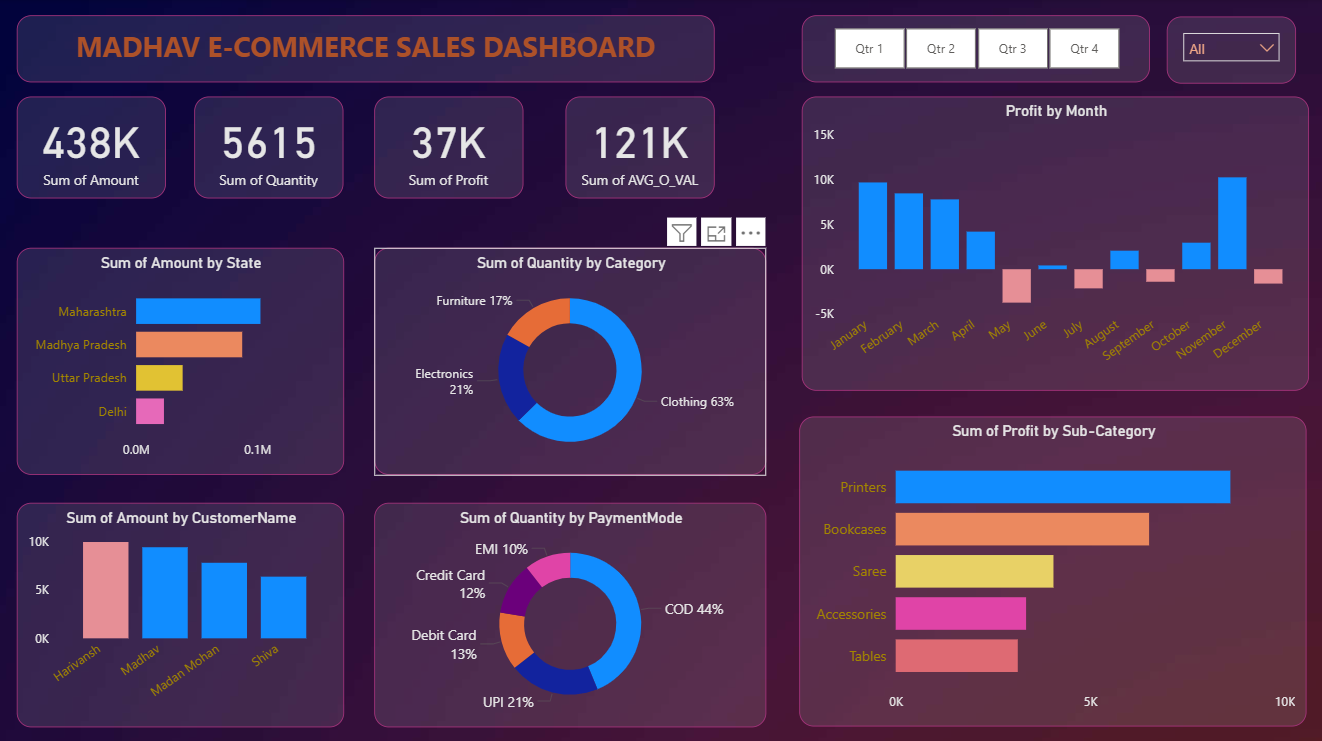

Layout of this report page (visuals, bound fields, positions):
{"tool":"powerbi","page":{"name":"Page 1","canvas":[1280,720],"ordinal":0},"visuals":[{"type":"textbox","box":[17.8,15.1,673.8,64.5],"z":0},{"type":"columnChart","title":"Profit by Month","fields":{"Category":["Orders.Order Date.Variation.Date Hierarchy.Month"],"Y":["Details.Profit"]},"box":[775.3,94.7,489.9,284],"z":1},{"type":"barChart","fields":{"Category":["Details.Sub-Category"],"Y":["Details.Profit"]},"box":[773.9,403.4,489.9,299.1],"z":2},{"type":"donutChart","fields":{"Category":["Details.Category"],"Y":["Details.Quantity"]},"box":[363.6,240.1,378.7,219.6],"z":3},{"type":"donutChart","fields":{"Y":["Details.Quantity"],"Category":["Details.PaymentMode"]},"box":[363.6,485.8,378.7,216.8],"z":4},{"type":"card","fields":{"Values":["Details.Amount"]},"box":[17.8,94.7,144.1,98.8],"z":5},{"type":"card","fields":{"Values":["Details.Quantity"]},"box":[189.4,94.7,144.1,98.8],"z":6},{"type":"card","fields":{"Values":["Details.Profit"]},"box":[363.6,94.7,144.1,98.8],"z":7},{"type":"card","fields":{"Values":["Details.AVERAGE"]},"box":[547.5,94.7,144.1,98.8],"z":8},{"type":"barChart","fields":{"Category":["Orders.State"],"Y":["Details.Amount"]},"box":[17.8,240.1,315.6,219.6],"z":9},{"type":"columnChart","fields":{"Category":["Orders.CustomerName"],"Y":["Details.Amount"]},"box":[18,486,316,217],"z":10},{"type":"slicer","fields":{"Values":["Orders.Order Date.Variation.Date Hierarchy.Quarter"]},"box":[775.3,15.1,336.2,64.5],"z":11},{"type":"slicer","fields":{"Values":["Orders.State"]},"box":[1128,16.5,124.9,64.5],"z":12}]}

Visuals, with their boxes in screenshot pixels (x1, y1, x2, y2), scaled from the page's 1280x720 canvas onto the 1322x741 screenshot:
textbox: {"x1": 18, "y1": 16, "x2": 714, "y2": 82}
"Profit by Month" columnChart: {"x1": 801, "y1": 97, "x2": 1307, "y2": 390}
barChart - Details.Sub-Category x Details.Profit: {"x1": 799, "y1": 415, "x2": 1305, "y2": 723}
donutChart - Details.Category x Details.Quantity: {"x1": 376, "y1": 247, "x2": 767, "y2": 473}
donutChart - Details.Quantity x Details.PaymentMode: {"x1": 376, "y1": 500, "x2": 767, "y2": 723}
card - Details.Amount: {"x1": 18, "y1": 97, "x2": 167, "y2": 199}
card - Details.Quantity: {"x1": 196, "y1": 97, "x2": 344, "y2": 199}
card - Details.Profit: {"x1": 376, "y1": 97, "x2": 524, "y2": 199}
card - Details.AVERAGE: {"x1": 565, "y1": 97, "x2": 714, "y2": 199}
barChart - Orders.State x Details.Amount: {"x1": 18, "y1": 247, "x2": 344, "y2": 473}
columnChart - Orders.CustomerName x Details.Amount: {"x1": 19, "y1": 500, "x2": 345, "y2": 724}
slicer - Orders.Order Date.Variation.Date Hierarchy.Quarter: {"x1": 801, "y1": 16, "x2": 1148, "y2": 82}
slicer - Orders.State: {"x1": 1165, "y1": 17, "x2": 1294, "y2": 83}
